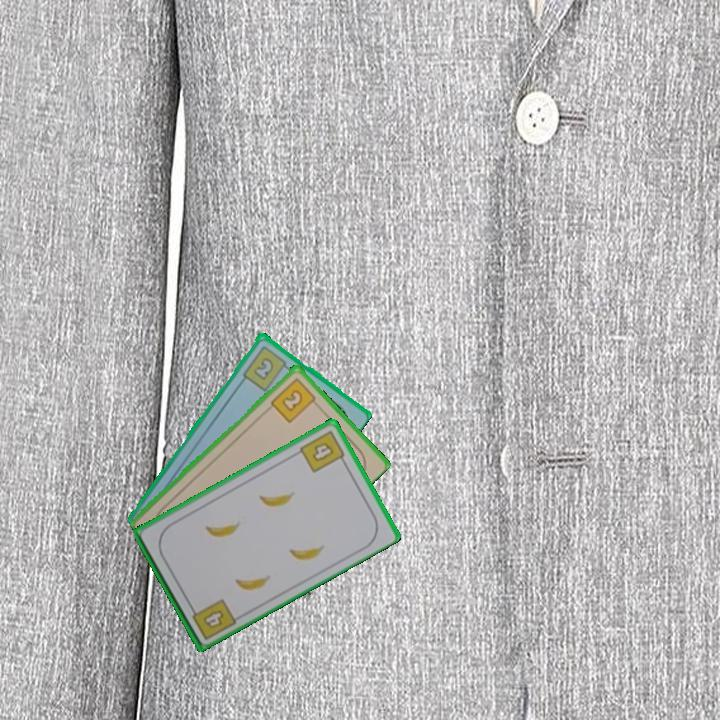2b: (239, 342, 293, 394), (267, 374, 321, 425)
4b: (296, 427, 349, 476), (186, 595, 239, 643)
